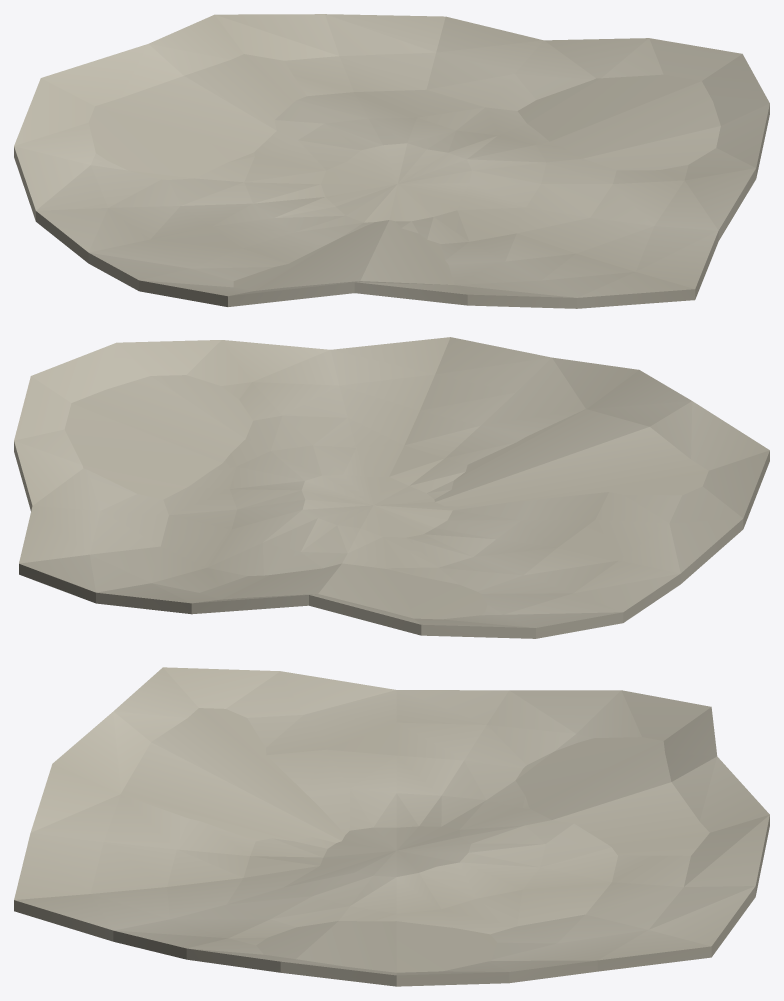
The model's file is triassic-salt-crust-2.glb.
3 renders of one model, top to bottom at view 1: azimuth 30°, elevation 25°; view 2: azimuth 150°, elevation 25°; view 3: azimuth 270°, elevation 25°, orthographic. The views are drawn at different scales.
Visible parts, largest first — view 1: triassic-salt-crust-2; view 2: triassic-salt-crust-2; view 3: triassic-salt-crust-2.
Boxes of the visible parts, bbox=[...] form: triassic-salt-crust-2: bbox=[14, 14, 769, 308]; triassic-salt-crust-2: bbox=[14, 337, 769, 638]; triassic-salt-crust-2: bbox=[14, 667, 769, 986].
Size of the model in its own units: 1.01 by 0.0968 by 0.9814.
